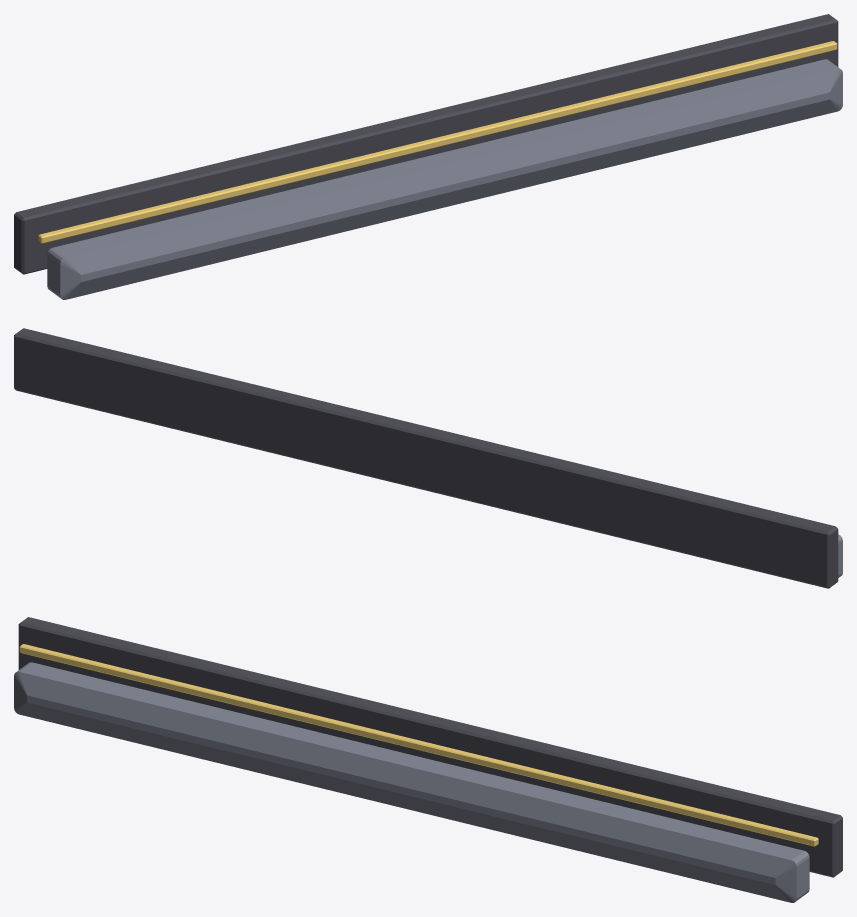
File: cinema-multiplex-and-foyer-side-wall-light-strip-b70cf154__34654.glb
3 renders of one model, top to bottom at view 1: azimuth 30°, elevation 25°; view 2: azimuth 150°, elevation 25°; view 3: azimuth 330°, elevation 25°, orthographic.
Visible parts, largest first — view 1: side-wall-light-strip; view 2: side-wall-light-strip; view 3: side-wall-light-strip.
Boxes of the visible parts, x1=… form: side-wall-light-strip: x1=14, y1=14, x2=842, y2=299; side-wall-light-strip: x1=14, y1=328, x2=842, y2=588; side-wall-light-strip: x1=14, y1=617, x2=842, y2=902.
Size of the model in its own units: 2.4 by 0.1999 by 0.175.
